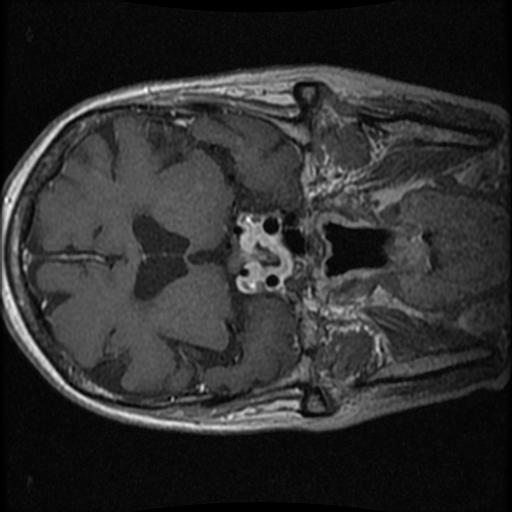pituitary tumour: (233, 210, 292, 294)
